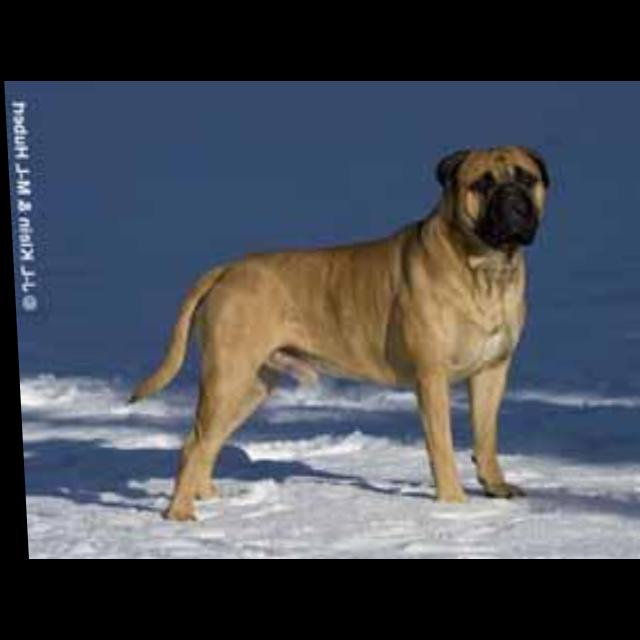bullmastiff: (115, 143, 566, 523)
